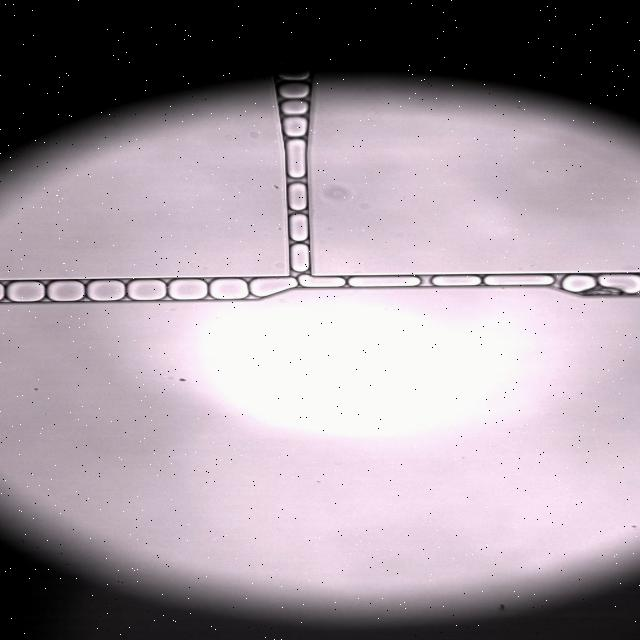L: (286, 139, 306, 178), (562, 275, 597, 292), (299, 275, 345, 287), (290, 244, 309, 272), (432, 275, 480, 286), (278, 82, 309, 99), (289, 183, 307, 210), (290, 214, 308, 241), (283, 117, 307, 137), (280, 100, 308, 116)
S: (250, 278, 297, 297), (598, 274, 640, 294), (348, 276, 419, 287), (6, 281, 45, 301), (87, 280, 124, 301), (48, 280, 85, 301), (210, 279, 248, 299), (168, 279, 206, 299), (127, 280, 165, 300), (484, 275, 554, 285), (0, 284, 4, 300)
